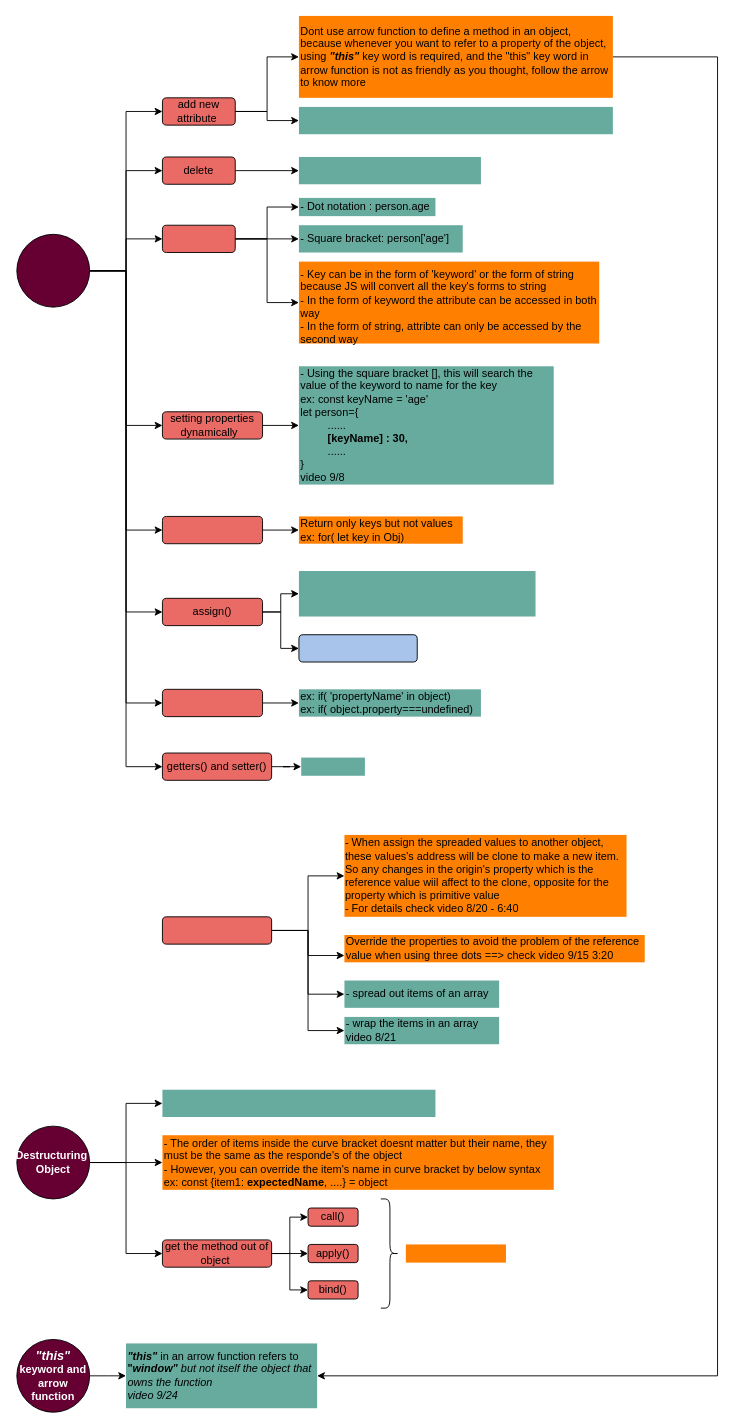
Image size: 741x1428. Some labels were removed from this diagram. The shapes that lost their labels are listed below. From the top down, each one's box as (x1, y1, x2, y2) in pixels, then its label:
(298, 106, 612, 134): Using dot notation ex: add age attribute to person object => person.age = 30
(298, 157, 480, 184): Remove an attribute from an object ex: delete person.age
(162, 224, 235, 253): access an attribute
(16, 233, 90, 307): Manipulate Object
(162, 516, 263, 544): for-in loop
(298, 571, 535, 616): Object.assign({}, obj); ==> video 9/16 ex: cosnt obj2 = Object.assign({}, obj)
(298, 634, 417, 662): Object.assign();
(162, 688, 263, 717): check property existance
(301, 757, 364, 775): video 9/27
(162, 916, 272, 944): spread operator (three dots ... )
(162, 1089, 435, 1117): const {item1, item2, ...} = object
(405, 1244, 506, 1262): video 9/21 - 9/22
